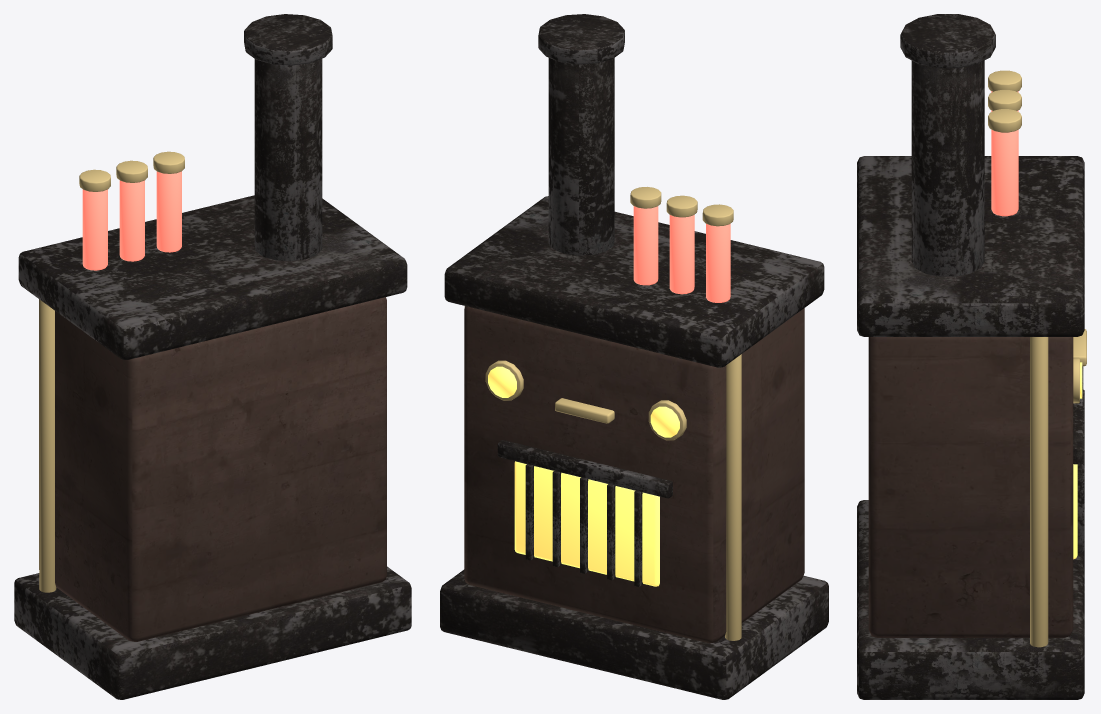
Rendered from prop_augment_furnace.glb.
The picture shows the model from 3 angles, left to right: view 1: azimuth 30°, elevation 25°; view 2: azimuth 150°, elevation 25°; view 3: azimuth 270°, elevation 25°; orthographic projection. The views are drawn at different scales.
Parts seen in each view (by area): view 1: Body, Hood, Base, Stack, Pipe, StackCap, Vial0, Vial1, Vial2, VialCap2, VialCap0, VialCap1; view 2: Body, Hood, Base, Stack, Mouth, Pipe, StackCap, MouthFrame, Vial2, Vial1, Vial0, CoinSlot (+10 smaller); view 3: Body, Hood, Base, Stack, Pipe.001, StackCap, Vial2, MouthFrame, Grate4, VialCap2, VialCap1, VialCap0 (+2 smaller).
Boxes of the visible parts, <box> form: Body: <box>39,297,386,641</box>; Hood: <box>18,195,407,359</box>; Base: <box>14,566,411,699</box>; Stack: <box>254,59,322,261</box>; Pipe: <box>39,299,56,592</box>; StackCap: <box>244,14,332,65</box>; Vial0: <box>82,189,107,270</box>; Vial1: <box>119,180,144,261</box>; Vial2: <box>156,171,181,252</box>; VialCap2: <box>153,151,184,173</box>; VialCap0: <box>79,169,110,191</box>; VialCap1: <box>116,160,147,182</box>; Body: <box>464,306,804,643</box>; Hood: <box>444,196,824,367</box>; Base: <box>440,569,828,699</box>; Stack: <box>548,58,614,255</box>; Mouth: <box>514,461,659,586</box>; Pipe: <box>725,354,741,640</box>; StackCap: <box>538,14,624,64</box>; MouthFrame: <box>497,440,672,498</box>; Vial2: <box>633,206,658,285</box>; Vial1: <box>669,215,694,294</box>; Vial0: <box>706,223,730,302</box>; CoinSlot: <box>555,398,614,423</box>; Body: <box>868,337,1073,637</box>; Hood: <box>857,156,1084,336</box>; Base: <box>857,500,1084,699</box>; Stack: <box>911,60,984,276</box>; Pipe.001: <box>1030,337,1048,647</box>; StackCap: <box>900,14,995,67</box>; Vial2: <box>991,129,1018,216</box>; MouthFrame: <box>1073,366,1083,464</box>; Grate4: <box>1077,447,1084,552</box>; VialCap2: <box>988,109,1021,132</box>; VialCap1: <box>988,89,1021,110</box>; VialCap0: <box>988,70,1021,91</box>.
Bounding box in the file's own units: 1.6 × 3.04 × 1.01.
5 materials, 2 textured.
